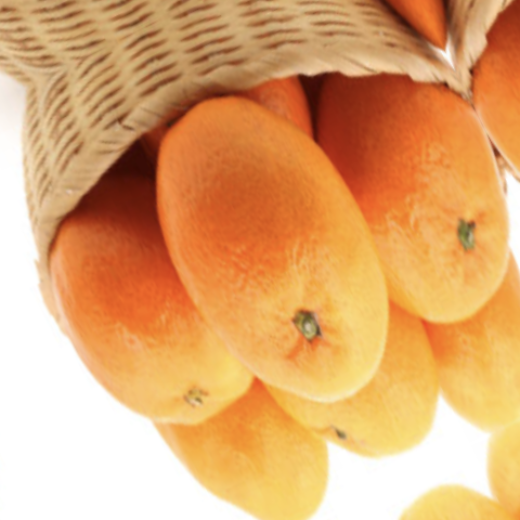orange: (104, 59, 443, 456), (0, 150, 301, 495), (264, 0, 520, 371)
